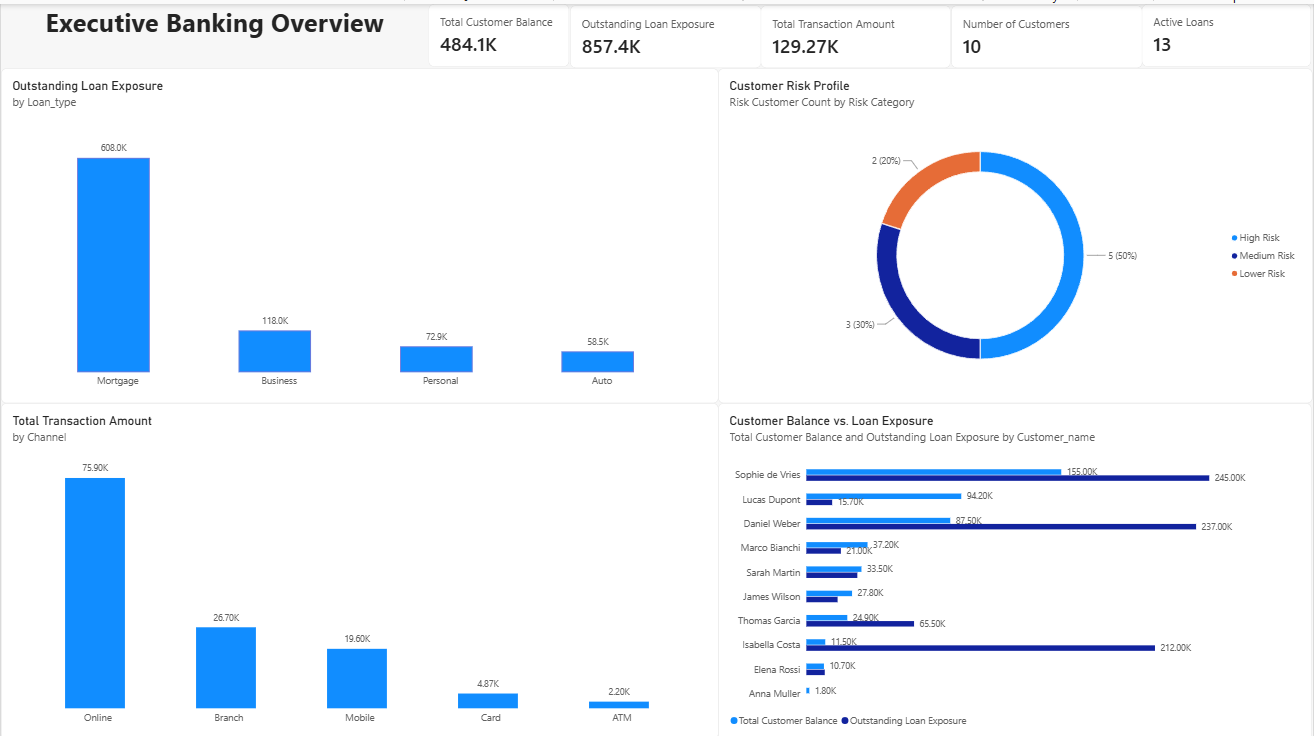

This screenshot's page, from the dashboard's own definition file:
{"tool":"powerbi","page":{"name":"Overview","canvas":[1920,1080],"ordinal":0},"visuals":[{"type":"cardVisual","fields":{"Data":["Accounts.Total Customer Balance"]},"box":[626,0,206,92],"z":0},{"type":"cardVisual","fields":{"Data":["Customers.Number of Customers"]},"box":[1390,2,280.7,92.3],"z":1000},{"type":"cardVisual","fields":{"Data":["Loans.Outstanding Loan Exposure"]},"box":[832,2,280.7,92.3],"z":2000},{"type":"cardVisual","fields":{"Data":["Transactions.Total Transaction Amount"]},"box":[1112,2,278.9,92.3],"z":3000},{"type":"cardVisual","fields":{"Data":["Loans.Active Loans"]},"box":[1670,0,248.7,92.3],"z":4000},{"type":"clusteredColumnChart","fields":{"Category":["Loans.Loan_type"],"Y":["Loans.Outstanding Loan Exposure"]},"box":[0,94,1050,490],"z":5000},{"type":"donutChart","title":"Customer Risk Profile","fields":{"Category":["Risk Categories.Risk Category"],"Y":["Risk Categories.Risk Customer Count"]},"box":[1050,94,870,490],"z":6000},{"type":"textbox","box":[791,695,578,385],"z":7000},{"type":"columnChart","fields":{"Category":["Transactions.Channel"],"Y":["Transactions.Total Transaction Amount"]},"box":[0,584,1050,492],"z":8000},{"type":"clusteredBarChart","title":"Customer Balance vs. Loan Exposure","fields":{"Category":["Customers.Customer_name"],"Y":["Accounts.Total Customer Balance","Loans.Outstanding Loan Exposure"]},"box":[1050,584,868,496],"z":9000},{"type":"textbox","box":[0,0,626,110],"z":10000}]}

Visuals, with their boxes in screenshot pixels (x1, y1, x2, y2), scaled from the page's 1920x1080 canvas onto the 1314x736 screenshot:
cardVisual - Accounts.Total Customer Balance: x1=428, y1=0, x2=569, y2=63
cardVisual - Customers.Number of Customers: x1=951, y1=1, x2=1143, y2=64
cardVisual - Loans.Outstanding Loan Exposure: x1=569, y1=1, x2=762, y2=64
cardVisual - Transactions.Total Transaction Amount: x1=761, y1=1, x2=952, y2=64
cardVisual - Loans.Active Loans: x1=1143, y1=0, x2=1313, y2=63
clusteredColumnChart - Loans.Loan_type x Loans.Outstanding Loan Exposure: x1=0, y1=64, x2=719, y2=398
"Customer Risk Profile" donutChart: x1=719, y1=64, x2=1313, y2=398
textbox: x1=541, y1=474, x2=937, y2=735
columnChart - Transactions.Channel x Transactions.Total Transaction Amount: x1=0, y1=398, x2=719, y2=733
"Customer Balance vs. Loan Exposure" clusteredBarChart: x1=719, y1=398, x2=1313, y2=735
textbox: x1=0, y1=0, x2=428, y2=75
